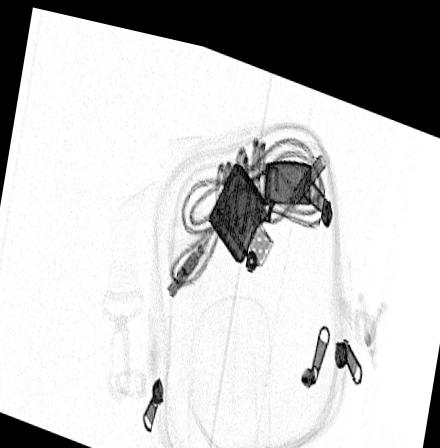Lighter: (207, 146, 312, 262)
